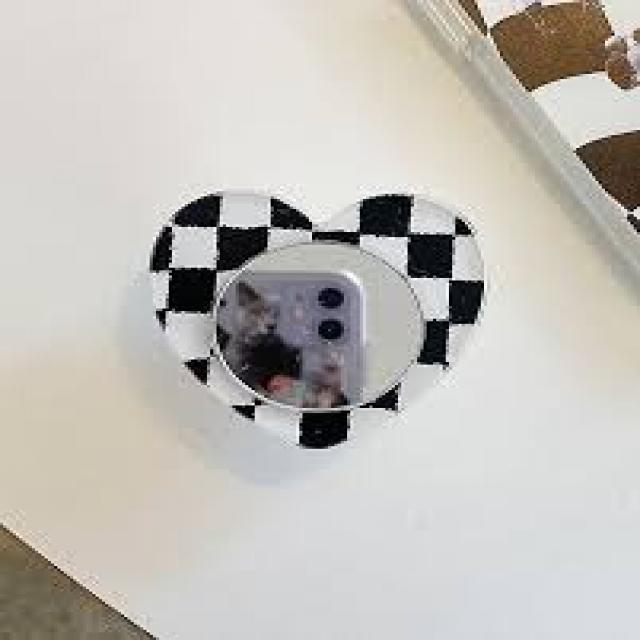Phone: (218, 268, 366, 407)
